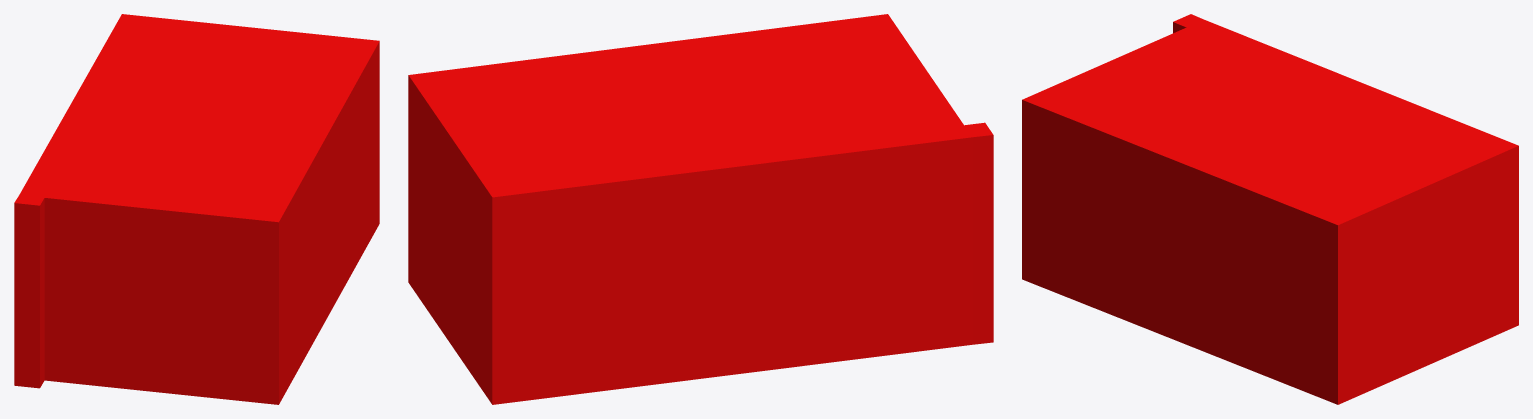
File: DEHB01ALk00016db.gltf
3 renders of one model, left to right at view 1: azimuth 30°, elevation 25°; view 2: azimuth 150°, elevation 25°; view 3: azimuth 270°, elevation 25°, orthographic. The views are drawn at different scales.
Parts seen in each view (by area): view 1: Z_UP; view 2: Z_UP; view 3: Z_UP.
Part boxes in pixels (x1,y1,x2,y2): Z_UP: (14, 14, 379, 404); Z_UP: (408, 14, 993, 404); Z_UP: (1022, 14, 1518, 404).
Size of the model in its own units: 6.32 by 2.51 by 6.28.
